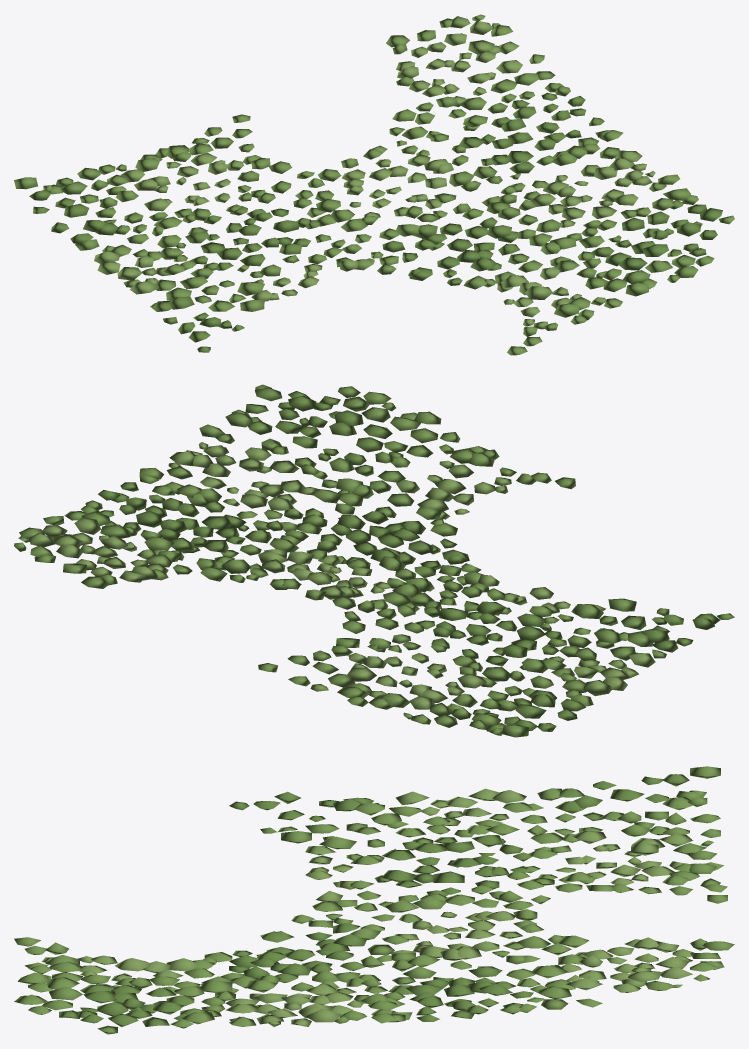
The model's file is canopy-1-4--3.glb.
The picture shows the model from 3 angles, top to bottom: view 1: azimuth 30°, elevation 25°; view 2: azimuth 150°, elevation 25°; view 3: azimuth 270°, elevation 25°; orthographic projection. The views are drawn at different scales.
Size of the model in its own units: 515 by 95 by 520.
Materials: 1 (1 with a texture image).
